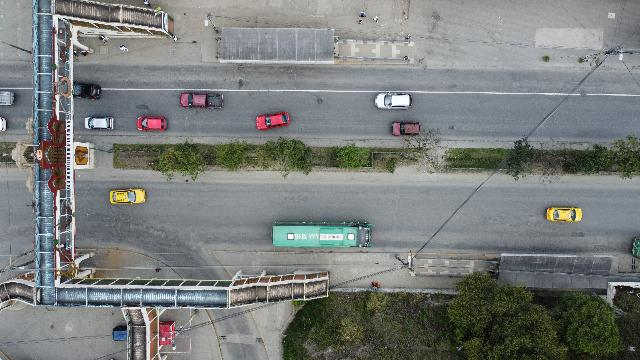Vehiculo: (180, 92, 222, 109), (255, 112, 289, 130), (376, 93, 412, 109), (546, 207, 582, 222), (110, 189, 145, 204), (72, 82, 100, 99), (137, 117, 167, 131), (85, 116, 114, 130), (392, 122, 420, 136)
